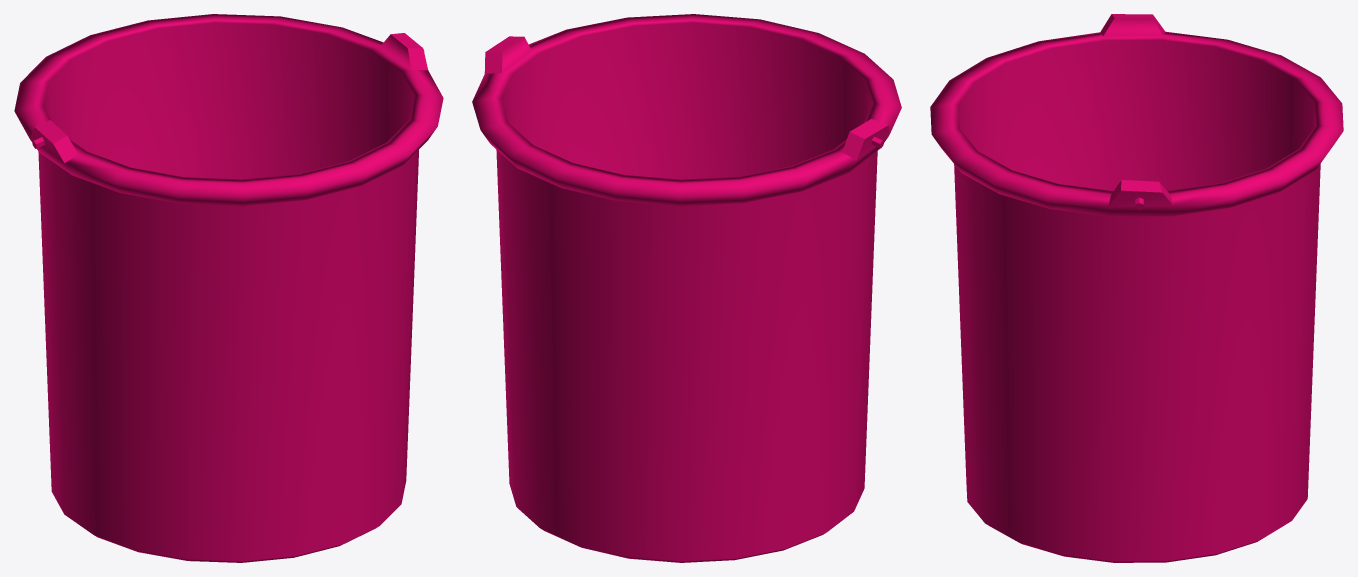
File: Bucket_02_Lod0.fbx
The picture shows the model from 3 angles, left to right: view 1: azimuth 30°, elevation 25°; view 2: azimuth 150°, elevation 25°; view 3: azimuth 270°, elevation 25°; orthographic projection. The views are drawn at different scales.
Parts seen in each view (by area): view 1: Bucket_02_Lod0; view 2: Bucket_02_Lod0; view 3: Bucket_02_Lod0.
Boxes of the visible parts, x1,y1,x2,y2 form: Bucket_02_Lod0: [14, 14, 443, 562]; Bucket_02_Lod0: [472, 14, 901, 562]; Bucket_02_Lod0: [930, 14, 1343, 562].
Size of the model in its own units: 33.59 by 33.38 by 31.74.
